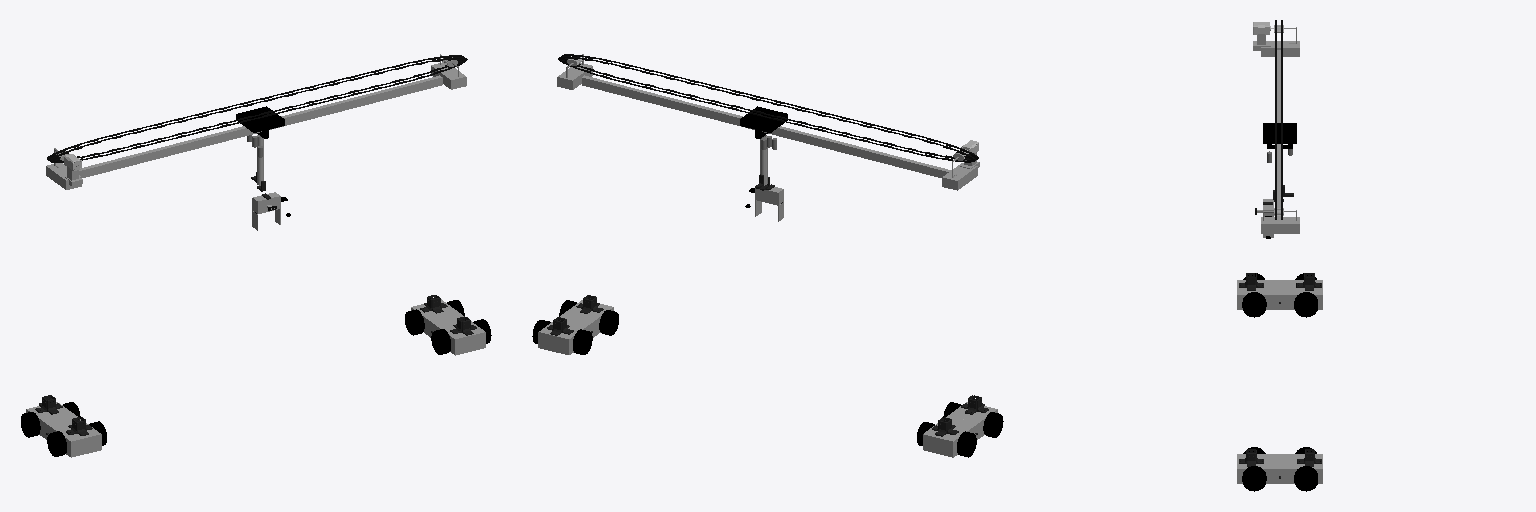
--- Facts derived from the render (not from the file) ---
3 views of the same robot in one strip: view 1: azimuth 30°, elevation 25°; view 2: azimuth 150°, elevation 25°; view 3: azimuth 270°, elevation 25° (orthographic).
Robot: bot — 104 links, 103 joints (1 revolute, 13 continuous, 6 prismatic, 83 fixed); root link Untitled.052; default pose: all joints at 0.
Visible links, largest first — view 1: Untitled.052, Untitled.004, Untitled.009, Untitled.058, Untitled.079, Untitled.026; view 2: Untitled.052, Untitled.009, Untitled.079, Untitled.004, Untitled.058, Untitled.026, Untitled.110; view 3: Untitled.004, Untitled.009, Untitled.111, Untitled.026, Untitled.052.
Link boxes in pixels (box(x1,y1,x2,y2)): Untitled.052: box(79, 75, 442, 177); Untitled.004: box(26, 402, 101, 457); Untitled.009: box(411, 299, 485, 355); Untitled.058: box(49, 57, 467, 162); Untitled.079: box(47, 55, 463, 160); Untitled.026: box(236, 106, 284, 132); Untitled.052: box(582, 75, 951, 177); Untitled.009: box(538, 300, 613, 354); Untitled.079: box(558, 56, 975, 162); Untitled.004: box(923, 402, 997, 457); Untitled.058: box(561, 54, 978, 159); Untitled.026: box(740, 106, 787, 132); Untitled.110: box(942, 163, 977, 190); Untitled.004: box(1237, 280, 1322, 309); Untitled.009: box(1237, 454, 1322, 483); Untitled.111: box(1261, 217, 1299, 233); Untitled.026: box(1263, 123, 1296, 143); Untitled.052: box(1277, 50, 1280, 216).
Bounding box of the posed robot: 2.81 × 0.5 × 1.82 m (x, y, z).
Meshes: 23 distinct files referenced, 38 mesh visuals loaded (13 binary STL); not drawn: 16 (reference not matched to a file when rendering).

The robot description file, URDF, robot "bot":
<?xml version="1.0"?>
<!-- created with Phobos 1.0.1 "Capricious Choutengan" -->
  <robot name="bot">

    <link name="Untitled">
      <inertial>
        <origin xyz="0 0 0" rpy="0 0 0"/>
        <mass value="0.001"/>
        <inertia ixx="0.001" ixy="0" ixz="0" iyy="0.001" iyz="0" izz="0.001"/>
      </inertial>
    </link>

    <link name="Untitled.001">
      <inertial>
        <origin xyz="0 0 0" rpy="0 0 0"/>
        <mass value="0.001"/>
        <inertia ixx="0.001" ixy="0" ixz="0" iyy="0.001" iyz="0" izz="0.001"/>
      </inertial>
    </link>

    <link name="Untitled.002">
      <inertial>
        <origin xyz="0 0 0" rpy="0 0 0"/>
        <mass value="0.001"/>
        <inertia ixx="0.001" ixy="0" ixz="0" iyy="0.001" iyz="0" izz="0.001"/>
      </inertial>
    </link>

    <link name="Untitled.003">
      <inertial>
        <origin xyz="0 0 0" rpy="0 0 0"/>
        <mass value="0.001"/>
        <inertia ixx="0.001" ixy="0" ixz="0" iyy="0.001" iyz="0" izz="0.001"/>
      </inertial>
    </link>

    <link name="Untitled.004">
      <inertial>
        <origin xyz="0 0 0" rpy="0 0 0"/>
        <mass value="8.0"/>
        <inertia ixx="0.00043" ixy="0" ixz="0" iyy="0.00145" iyz="0" izz="0.06667"/>
      </inertial>
      <visual name="base link.000">
        <origin xyz="0 0 0" rpy="0 0 0"/>
        <geometry>
          <box size="0.5 0.2 0.1"/>
        </geometry>
        <material name="Material.005"/>
      </visual>
      <collision name="base link.000">
        <origin xyz="0 0 0" rpy="0 0 0"/>
        <geometry>
          <box size="0.5 0.2 0.1"/>
        </geometry>
      </collision>
    </link>

    <link name="Untitled.005">
      <inertial>
        <origin xyz="0 0 0" rpy="0 0 0"/>
        <mass value="0.25"/>
        <inertia ixx="7e-05" ixy="0" ixz="0" iyy="0.00013" iyz="0" izz="0.00056"/>
      </inertial>
      <visual name="bl Link.000">
        <origin xyz="-0.0022 0 0" rpy="-3.14159 0 0"/>
        <geometry>
          <mesh filename="Cylinder.004.stl" scale="0.77778 0.77778 1.0"/>
        </geometry>
        <material name="Material.004"/>
      </visual>
      <collision name="bl Link.000">
        <origin xyz="-0.0022 0 0" rpy="-3.14159 0 0"/>
        <geometry>
          <cylinder radius="0.07" length="0.05"/>
        </geometry>
      </collision>
    </link>

    <link name="Untitled.006">
      <inertial>
        <origin xyz="0 0 0" rpy="0 0 0"/>
        <mass value="0.25"/>
        <inertia ixx="7e-05" ixy="0" ixz="0" iyy="0.00013" iyz="0" izz="0.00056"/>
      </inertial>
      <visual name="bl Link.002.000">
        <origin xyz="-0.0022 0 0" rpy="-3.14159 0 0"/>
        <geometry>
          <cylinder radius="0.07" length="0.05"/>
        </geometry>
        <material name="Material.001"/>
      </visual>
      <collision name="bl Link.002.000">
        <origin xyz="-0.0022 0 0" rpy="-3.14159 0 0"/>
        <geometry>
          <cylinder radius="0.07" length="0.05"/>
        </geometry>
      </collision>
    </link>

    <link name="Untitled.007">
      <inertial>
        <origin xyz="0 0 0" rpy="0 0 0"/>
        <mass value="0.25"/>
        <inertia ixx="7e-05" ixy="0" ixz="0" iyy="0.00013" iyz="0" izz="0.00056"/>
      </inertial>
      <visual name="bl Link.003.000">
        <origin xyz="-0.0022 0 0" rpy="0 0 0"/>
        <geometry>
          <cylinder radius="0.07" length="0.05"/>
        </geometry>
        <material name="Material.002"/>
      </visual>
      <collision name="bl Link.003.000">
        <origin xyz="-0.0022 0 0" rpy="0 0 0"/>
        <geometry>
          <cylinder radius="0.07" length="0.05"/>
        </geometry>
      </collision>
    </link>

    <link name="Untitled.008">
      <inertial>
        <origin xyz="0 0 0" rpy="0 0 0"/>
        <mass value="0.25"/>
        <inertia ixx="7e-05" ixy="0" ixz="0" iyy="0.00013" iyz="0" izz="0.00056"/>
      </inertial>
      <visual name="bl Link.001.000">
        <origin xyz="-0.0022 0 0" rpy="0 0 0"/>
        <geometry>
          <cylinder radius="0.07" length="0.05"/>
        </geometry>
        <material name="Material.003"/>
      </visual>
      <collision name="bl Link.001.000">
        <origin xyz="-0.0022 0 0" rpy="0 0 0"/>
        <geometry>
          <cylinder radius="0.07" length="0.05"/>
        </geometry>
      </collision>
    </link>

    <link name="Untitled.009">
      <inertial>
        <origin xyz="0 0 0" rpy="0 0 0"/>
        <mass value="8.0"/>
        <inertia ixx="0.00043" ixy="0" ixz="0" iyy="0.00145" iyz="0" izz="0.06667"/>
      </inertial>
      <visual name="base link.001">
        <origin xyz="0 0 0" rpy="0 0 0"/>
        <geometry>
          <box size="0.5 0.2 0.1"/>
        </geometry>
        <material name="Material.005"/>
      </visual>
      <collision name="base link.000">
        <origin xyz="0 0 0" rpy="0 0 0"/>
        <geometry>
          <box size="0.5 0.2 0.1"/>
        </geometry>
      </collision>
    </link>

    <link name="Untitled.010">
      <inertial>
        <origin xyz="0 0 0" rpy="0 0 0"/>
        <mass value="0.001"/>
        <inertia ixx="0.001" ixy="0" ixz="0" iyy="0.001" iyz="0" izz="0.001"/>
      </inertial>
    </link>

    <link name="Untitled.011">
      <inertial>
        <origin xyz="0 0 0" rpy="0 0 0"/>
        <mass value="0.25"/>
        <inertia ixx="7e-05" ixy="0" ixz="0" iyy="0.00013" iyz="0" izz="0.00056"/>
      </inertial>
      <visual name="bl Link.003.001">
        <origin xyz="-0.0022 0 0" rpy="0 0 0"/>
        <geometry>
          <cylinder radius="0.07" length="0.05"/>
        </geometry>
        <material name="Material.002"/>
      </visual>
      <collision name="bl Link.003.000">
        <origin xyz="-0.0022 0 0" rpy="0 0 0"/>
        <geometry>
          <cylinder radius="0.07" length="0.05"/>
        </geometry>
      </collision>
    </link>

    <link name="Untitled.012">
      <inertial>
        <origin xyz="0 0 0" rpy="0 0 0"/>
        <mass value="0.001"/>
        <inertia ixx="0.001" ixy="0" ixz="0" iyy="0.001" iyz="0" izz="0.001"/>
      </inertial>
    </link>

    <link name="Untitled.013">
      <inertial>
        <origin xyz="0 0 0" rpy="0 0 0"/>
        <mass value="0.001"/>
        <inertia ixx="0.001" ixy="0" ixz="0" iyy="0.001" iyz="0" izz="0.001"/>
      </inertial>
      <visual name="Pulley T-Mxl-Xl-Htd-Gt2 N-Tooth 20141225-11880-1Y2Kfq6-0">
        <origin xyz="0 0 -0.05" rpy="0 0 0"/>
        <geometry>
          <mesh filename="Pulley T-Mxl-Xl-Htd-Gt2 N-Tooth 20141225-11880-1Y2Kfq6-0.stl" scale="0.00021 0.00037 0.005"/>
        </geometry>
        <material name="Material.039"/>
      </visual>
    </link>

    <link name="Untitled.014">
      <inertial>
        <origin xyz="0 0 0" rpy="0 0 0"/>
        <mass value="0.001"/>
        <inertia ixx="0.001" ixy="0" ixz="0" iyy="0.001" iyz="0" izz="0.001"/>
      </inertial>
    </link>

    <link name="Untitled.015">
      <inertial>
        <origin xyz="0 0 0" rpy="0 0 0"/>
        <mass value="0.25"/>
        <inertia ixx="7e-05" ixy="0" ixz="0" iyy="0.00013" iyz="0" izz="0.00056"/>
      </inertial>
      <visual name="bl Link.001">
        <origin xyz="-0.0022 0 0" rpy="-3.14159 0 0"/>
        <geometry>
          <cylinder radius="0.07" length="0.05"/>
        </geometry>
        <material name="Material.004"/>
      </visual>
      <collision name="bl Link.000">
        <origin xyz="-0.0022 0 0" rpy="-3.14159 0 0"/>
        <geometry>
          <cylinder radius="0.07" length="0.05"/>
        </geometry>
      </collision>
    </link>

    <link name="Untitled.016">
      <inertial>
        <origin xyz="0 0 0" rpy="0 0 0"/>
        <mass value="0.001"/>
        <inertia ixx="0.001" ixy="0" ixz="0" iyy="0.001" iyz="0" izz="0.001"/>
      </inertial>
    </link>

    <link name="Untitled.017">
      <inertial>
        <origin xyz="0 0 0" rpy="0 0 0"/>
        <mass value="0.25"/>
        <inertia ixx="7e-05" ixy="0" ixz="0" iyy="0.00013" iyz="0" izz="0.00056"/>
      </inertial>
      <visual name="bl Link.001.001">
        <origin xyz="-0.0022 0 0" rpy="0 0 0"/>
        <geometry>
          <cylinder radius="0.07" length="0.05"/>
        </geometry>
        <material name="Material.003"/>
      </visual>
      <collision name="bl Link.001.000">
        <origin xyz="-0.0022 0 0" rpy="0 0 0"/>
        <geometry>
          <cylinder radius="0.07" length="0.05"/>
        </geometry>
      </collision>
    </link>

    <link name="Untitled.018">
      <inertial>
        <origin xyz="0 0 0" rpy="0 0 0"/>
        <mass value="0.02"/>
        <inertia ixx="2e-05" ixy="0" ixz="0" iyy="2e-05" iyz="0" izz="2e-05"/>
      </inertial>
      <visual name="base link.002">
        <origin xyz="0 0 0" rpy="0 0 0"/>
        <geometry>
          <mesh filename="base link.stl" scale="0.74892 0.75 0.33333"/>
        </geometry>
        <material name="Material.035"/>
      </visual>
      <collision name="base link.002.000">
        <origin xyz="0 0 0" rpy="0 0 0"/>
        <geometry>
          <mesh filename="base link.001.stl" scale="1.5043 1.5 1.0"/>
        </geometry>
      </collision>
    </link>

    <link name="Untitled.019">
      <inertial>
        <origin xyz="0 0 0" rpy="0 0 0"/>
        <mass value="0.01"/>
        <inertia ixx="2e-05" ixy="0" ixz="0" iyy="2e-05" iyz="0" izz="2e-05"/>
      </inertial>
      <visual name="inner Link.003">
        <origin xyz="0 0 0" rpy="0 0 0"/>
        <geometry>
          <mesh filename="inner Link.006.stl" scale="0.59176 0.57692 0.33333"/>
        </geometry>
        <material name="Material.036"/>
      </visual>
      <collision name="inner Link.003.000">
        <origin xyz="0 0 0" rpy="0 0 0"/>
        <geometry>
          <mesh filename="inner Link.007.stl" scale="1.0 1.0 1.0"/>
        </geometry>
      </collision>
    </link>

    <link name="Untitled.020">
      <inertial>
        <origin xyz="0 0 0" rpy="0 0 0"/>
        <mass value="0.001"/>
        <inertia ixx="2e-05" ixy="0" ixz="0" iyy="2e-05" iyz="0" izz="2e-05"/>
      </inertial>
      <visual name="Half Sphere 2">
        <origin xyz="0 0 0" rpy="-1.5708 0 0"/>
        <geometry>
          <mesh filename="Half Sphere 2.002.stl" scale="0.00489 0.00488 0.00488"/>
        </geometry>
        <material name="Material.037"/>
      </visual>
      <collision name="Half Sphere 2.000">
        <origin xyz="-0.001 0 -0.00176" rpy="-1.5708 0 0"/>
        <geometry>
          <mesh filename="Half Sphere 2.003.stl" scale="1.0 1.0 1.0"/>
        </geometry>
      </collision>
    </link>

    <link name="Untitled.021">
      <inertial>
        <origin xyz="0 0 0.01" rpy="0 0 0"/>
        <mass value="0.01"/>
        <inertia ixx="2e-05" ixy="0" ixz="0" iyy="2e-05" iyz="0" izz="2e-05"/>
      </inertial>
      <visual name="Cube.003">
        <origin xyz="0 0 0.01" rpy="0 0 0"/>
        <geometry>
          <box size="0.15 0.03 0.01"/>
        </geometry>
        <material name="Material.009"/>
      </visual>
      <collision name="Cube.003">
        <origin xyz="0 0 0.01" rpy="0 0 0"/>
        <geometry>
          <box size="0.15 0.03 0.01"/>
        </geometry>
      </collision>
    </link>

    <link name="Untitled.022">
      <inertial>
        <origin xyz="0 0 0" rpy="0 0 0"/>
        <mass value="0.05"/>
        <inertia ixx="2e-05" ixy="0" ixz="0" iyy="2e-05" iyz="0" izz="2e-05"/>
      </inertial>
      <visual name="Cube.002">
        <origin xyz="0 0 0" rpy="0 0 0"/>
        <geometry>
          <box size="0.03 0.03 0.06"/>
        </geometry>
        <material name="Material.010"/>
      </visual>
      <collision name="Cube.002">
        <origin xyz="0 0 0" rpy="0 0 0"/>
        <geometry>
          <box size="0.03 0.03 0.06"/>
        </geometry>
      </collision>
    </link>

    <link name="Untitled.023">
      <inertial>
        <origin xyz="0 0 0" rpy="0 0 0"/>
        <mass value="0.05"/>
        <inertia ixx="2e-05" ixy="0" ixz="0" iyy="2e-05" iyz="0" izz="2e-05"/>
      </inertial>
      <visual name="Cube.001">
        <origin xyz="0 0 0" rpy="0 0 0"/>
        <geometry>
          <box size="0.03 0.03 0.06"/>
        </geometry>
        <material name="Material.010"/>
      </visual>
      <collision name="Cube.001">
        <origin xyz="0 0 0" rpy="0 0 0"/>
        <geometry>
          <box size="0.03 0.03 0.06"/>
        </geometry>
      </collision>
    </link>

    <link name="Untitled.024">
      <inertial>
        <origin xyz="0 0 0" rpy="0 0 0"/>
        <mass value="0.001"/>
        <inertia ixx="0.001" ixy="0" ixz="0" iyy="0.001" iyz="0" izz="0.001"/>
      </inertial>
    </link>

    <link name="Untitled.025">
      <inertial>
        <origin xyz="0 0 0" rpy="0 0 0"/>
        <mass value="0.001"/>
        <inertia ixx="0.001" ixy="0" ixz="0" iyy="0.001" iyz="0" izz="0.001"/>
      </inertial>
    </link>

    <link name="Untitled.026">
      <inertial>
        <origin xyz="0 0 0" rpy="0 0 0"/>
        <mass value="0.5"/>
        <inertia ixx="2e-05" ixy="0" ixz="0" iyy="2e-05" iyz="0" izz="2e-05"/>
      </inertial>
      <visual name="Cube">
        <origin xyz="0 0 0" rpy="-1.5708 0 0"/>
        <geometry>
          <box size="0.2 0.2 0.04"/>
        </geometry>
        <material name="Material.008"/>
      </visual>
      <collision name="Cube">
        <origin xyz="0 0 0" rpy="-1.5708 0 0"/>
        <geometry>
          <box size="0.2 0.2 0.04"/>
        </geometry>
      </collision>
    </link>

    <link name="Untitled.027">
      <inertial>
        <origin xyz="0 0 0" rpy="0 0 0"/>
        <mass value="0.5"/>
        <inertia ixx="0.00286" ixy="0" ixz="0" iyy="0.00286" iyz="0" izz="0.0001"/>
      </inertial>
      <visual name="base link">
        <origin xyz="0 0 0" rpy="0 0 0"/>
        <geometry>
          <mesh filename="base link.006.stl" scale="1.0 1.0 1.0"/>
        </geometry>
        <material name="Material.011"/>
      </visual>
      <collision name="base link.000.001.002">
        <origin xyz="0 0.00061 0" rpy="0 0 0"/>
        <geometry>
          <mesh filename="base link.009.stl" scale="1.0 1.0 1.0"/>
        </geometry>
      </collision>
    </link>

    <link name="Untitled.028">
      <inertial>
        <origin xyz="0 0 0.02952" rpy="0 0 0"/>
        <mass value="0.5"/>
        <inertia ixx="0.00377" ixy="0" ixz="0" iyy="0.00377" iyz="0" izz="4e-05"/>
      </inertial>
      <visual name="inner Link">
        <origin xyz="0 0 0.02952" rpy="0 0 0"/>
        <geometry>
          <mesh filename="inner Link.stl" scale="1.0 1.0 1.0"/>
        </geometry>
        <material name="Material.012"/>
      </visual>
      <collision name="inner Link.000">
        <origin xyz="0 0 0.02952" rpy="0 0 0"/>
        <geometry>
          <mesh filename="inner Link.003.stl" scale="1.0 1.0 1.0"/>
        </geometry>
      </collision>
    </link>

    <link name="Untitled.029">
      <inertial>
        <origin xyz="0 0 0" rpy="0 0 0"/>
        <mass value="0.1"/>
        <inertia ixx="2e-05" ixy="0" ixz="0" iyy="2e-05" iyz="0" izz="2e-05"/>
      </inertial>
      <visual name="Cube.004">
        <origin xyz="0 0 0" rpy="0 0 0"/>
        <geometry>
          <box size="0.06 0.026 0.01"/>
        </geometry>
        <material name="Material.013"/>
      </visual>
      <collision name="Cube.004">
        <origin xyz="0 0 0" rpy="0 0 0"/>
        <geometry>
          <box size="0.06 0.026 0.01"/>
        </geometry>
      </collision>
    </link>

    <link name="Untitled.030">
      <inertial>
        <origin xyz="0 0 0" rpy="0 0 0"/>
        <mass value="0.5"/>
        <inertia ixx="0.00286" ixy="0" ixz="0" iyy="0.00286" iyz="0" izz="0.0001"/>
      </inertial>
      <visual name="base link.003">
        <origin xyz="0 0 0" rpy="0 0 0"/>
        <geometry>
          <mesh filename="base link.007.stl" scale="1.0 1.0 1.0"/>
        </geometry>
        <material name="Material.014"/>
      </visual>
      <collision name="base link.003.000">
        <origin xyz="0 0 0" rpy="0 0 0"/>
        <geometry>
          <mesh filename="base link.010.stl" scale="1.0 1.0 1.0"/>
        </geometry>
      </collision>
    </link>

    <link name="Untitled.031">
      <inertial>
        <origin xyz="0 0 0" rpy="0 0 0"/>
        <mass value="0.5"/>
        <inertia ixx="0.00377" ixy="0" ixz="0" iyy="0.00377" iyz="0" izz="4e-05"/>
      </inertial>
      <visual name="inner Link.001">
        <origin xyz="0 0 0" rpy="0 0 0"/>
        <geometry>
          <mesh filename="inner Link.001.stl" scale="1.0 1.0 1.0"/>
        </geometry>
        <material name="Material.015"/>
      </visual>
      <collision name="inner Link.001.000">
        <origin xyz="0 0 0" rpy="0 0 0"/>
        <geometry>
          <mesh filename="inner Link.004.stl" scale="1.0 1.0 1.0"/>
        </geometry>
      </collision>
    </link>

    <link name="Untitled.032">
      <inertial>
        <origin xyz="0 0 0" rpy="0 0 0"/>
        <mass value="0.1"/>
        <inertia ixx="2e-05" ixy="0" ixz="0" iyy="2e-05" iyz="0" izz="2e-05"/>
      </inertial>
      <visual name="Cube.005">
        <origin xyz="0 0 0" rpy="0 0 0"/>
        <geometry>
          <box size="0.06 0.026 0.01"/>
        </geometry>
        <material name="Material.016"/>
      </visual>
      <collision name="Cube.005">
        <origin xyz="0 0 0" rpy="0 0 0"/>
        <geometry>
          <box size="0.06 0.026 0.01"/>
        </geometry>
      </collision>
    </link>

    <link name="Untitled.033">
      <inertial>
        <origin xyz="0 0 0" rpy="0 0 0"/>
        <mass value="0.5"/>
        <inertia ixx="0.00286" ixy="0" ixz="0" iyy="0.00286" iyz="0" izz="0.0001"/>
      </inertial>
      <visual name="base link.004">
        <origin xyz="0 0 0" rpy="0 0 0"/>
        <geometry>
          <mesh filename="base link.008.stl" scale="1.0 1.0 1.0"/>
        </geometry>
        <material name="Material.017"/>
      </visual>
      <collision name="base link.004.000">
        <origin xyz="0 0 0" rpy="0 0 0"/>
        <geometry>
          <mesh filename="base link.011.stl" scale="1.0 1.0 1.0"/>
        </geometry>
      </collision>
    </link>

    <link name="Untitled.034">
      <inertial>
        <origin xyz="0 0 0" rpy="0 0 0"/>
        <mass value="0.5"/>
        <inertia ixx="0.00377" ixy="0" ixz="0" iyy="0.00377" iyz="0" izz="4e-05"/>
      </inertial>
      <visual name="inner Link.002">
        <origin xyz="0 0 0" rpy="0 0 0"/>
        <geometry>
          <mesh filename="inner Link.002.stl" scale="1.0 1.0 1.0"/>
        </geometry>
        <material name="Material.018"/>
      </visual>
      <collision name="inner Link.002.000">
        <origin xyz="0 0 0" rpy="0 0 0"/>
        <geometry>
          <mesh filename="inner Link.005.stl" scale="1.0 1.0 1.0"/>
        </geometry>
      </collision>
    </link>

    <link name="Untitled.035">
      <inertial>
        <origin xyz="0 0 0" rpy="0 0 0"/>
        <mass value="0.1"/>
        <inertia ixx="2e-05" ixy="0" ixz="0" iyy="2e-05" iyz="0" izz="2e-05"/>
      </inertial>
      <visual name="Cube.006">
        <origin xyz="0 0 0" rpy="0 0 0"/>
        <geometry>
          <box size="0.06 0.026 0.01"/>
        </geometry>
        <material name="Material.019"/>
      </visual>
      <collision name="Cube.006">
        <origin xyz="0 0 0" rpy="0 0 0"/>
        <geometry>
          <box size="0.06 0.026 0.01"/>
        </geometry>
      </collision>
    </link>

    <link name="Untitled.036">
      <inertial>
        <origin xyz="0 0 0" rpy="0 0 0"/>
        <mass value="0.3"/>
        <inertia ixx="2e-05" ixy="0" ixz="0" iyy="2e-05" iyz="0" izz="2e-05"/>
      </inertial>
      <visual name="Cube.007">
        <origin xyz="0 0 0" rpy="0 0 0"/>
        <geometry>
          <box size="0.06 0.15 0.08"/>
        </geometry>
        <material name="Material.020"/>
      </visual>
      <collision name="Cube.007">
        <origin xyz="0 0 0" rpy="0 0 0"/>
        <geometry>
          <box size="0.04 0.15 0.08"/>
        </geometry>
      </collision>
    </link>

    <link name="Untitled.037">
      <inertial>
        <origin xyz="0 0 0.01" rpy="0 0 0"/>
        <mass value="0.05"/>
        <inertia ixx="2e-05" ixy="0" ixz="0" iyy="2e-05" iyz="0" izz="2e-05"/>
      </inertial>
      <visual name="Cube.008">
        <origin xyz="0 0 0.01" rpy="-1.5708 0 0"/>
        <geometry>
          <box size="0.06 0.005 0.1"/>
        </geometry>
        <material name="Material.007"/>
      </visual>
      <collision name="Cube.008">
        <origin xyz="0 0 0.01" rpy="-1.5708 0 0"/>
        <geometry>
          <box size="0.04 0.005 0.1"/>
        </geometry>
      </collision>
    </link>

    <link name="Untitled.038">
      <inertial>
        <origin xyz="0 0 0.01" rpy="0 0 0"/>
        <mass value="0.05"/>
        <inertia ixx="2e-05" ixy="0" ixz="0" iyy="2e-05" iyz="0" izz="2e-05"/>
      </inertial>
      <visual name="Cube.009">
        <origin xyz="0 0 0.01" rpy="-1.5708 0 0"/>
        <geometry>
          <box size="0.06 0.005 0.1"/>
        </geometry>
        <material name="Material.007"/>
      </visual>
      <collision name="Cube.009">
        <origin xyz="0 0 0.01" rpy="-1.5708 0 0"/>
        <geometry>
          <box size="0.04 0.005 0.1"/>
        </geometry>
      </collision>
    </link>

    <link name="Untitled.039">
      <inertial>
        <origin xyz="0 0 0" rpy="0 0 0"/>
        <mass value="0.001"/>
        <inertia ixx="0.001" ixy="0" ixz="0" iyy="0.001" iyz="0" izz="0.001"/>
      </inertial>
      <visual name="L bracket.007">
        <origin xyz="0 0 -0.02" rpy="0 0 0"/>
        <geometry>
          <mesh filename="L bracket.stl" scale="0.00116 0.0016 0.00167"/>
        </geometry>
        <material name="Material.051"/>
      </visual>
    </link>

    <link name="Untitled.040">
      <inertial>
        <origin xyz="0 0 0" rpy="0 0 0"/>
        <mass value="0.001"/>
        <inertia ixx="0.001" ixy="0" ixz="0" iyy="0.001" iyz="0" izz="0.001"/>
      </inertial>
      <visual name="L bracket.004">
        <origin xyz="0 0 0" rpy="0 0 0"/>
        <geometry>
          <mesh filename="L bracket.stl" scale="0.00116 0.0016 0.00167"/>
        </geometry>
        <material name="Material.051"/>
      </visual>
    </link>

    <link name="Untitled.041">
      <inertial>
        <origin xyz="0 0 0" rpy="0 0 0"/>
        <mass value="0.005"/>
        <inertia ixx="2e-05" ixy="0" ixz="0" iyy="2e-05" iyz="0" izz="2e-05"/>
      </inertial>
      <visual name="Cube.012.000">
        <origin xyz="0 0 0" rpy="0 0 0"/>
        <geometry>
          <box size="0.06 0.026 0.01"/>
        </geometry>
        <material name="Material.025"/>
      </visual>
      <collision name="Cube.012.000">
        <origin xyz="0 0 0" rpy="0 0 0"/>
        <geometry>
          <box size="0.06 0.026 0.01"/>
        </geometry>
      </collision>
    </link>

    <link name="Untitled.042">
      <inertial>
        <origin xyz="0 0 0.01" rpy="0 0 0"/>
        <mass value="0.005"/>
        <inertia ixx="2e-05" ixy="0" ixz="0" iyy="2e-05" iyz="0" izz="2e-05"/>
      </inertial>
      <visual name="Cube.013">
        <origin xyz="0 0 0.01" rpy="-1.5708 0 -1.5708"/>
        <geometry>
          <box size="0.02 0.05 0.01"/>
        </geometry>
        <material name="Material.026"/>
      </visual>
      <collision name="Cube.013">
        <origin xyz="0 0 0.01" rpy="-1.5708 0 -1.5708"/>
        <geometry>
          <box size="0.02 0.05 0.01"/>
        </geometry>
      </collision>
    </link>

    <link name="Untitled.043">
      <inertial>
        <origin xyz="0 0 0" rpy="0 0 0"/>
        <mass value="0.001"/>
        <inertia ixx="0.001" ixy="0" ixz="0" iyy="0.001" iyz="0" izz="0.001"/>
      </inertial>
      <visual name="Cylinder.001">
        <origin xyz="0 0 0" rpy="0 0 0"/>
        <geometry>
          <cylinder radius="0.005" length="0.01"/>
        </geometry>
        <material name="Material.027"/>
      </visual>
    </link>

    <link name="Untitled.044">
      <inertial>
        <origin xyz="0 0 0" rpy="0 0 0"/>
        <mass value="0.001"/>
        <inertia ixx="0.001" ixy="0" ixz="0" iyy="0.001" iyz="0" izz="0.001"/>
      </inertial>
      <visual name="Cylinder">
        <origin xyz="0 0 0" rpy="0 0 0"/>
        <geometry>
          <cylinder radius="0.005" length="0.01"/>
        </geometry>
        <material name="Material.027"/>
      </visual>
    </link>

    <link name="Untitled.045">
      <inertial>
        <origin xyz="0 0 0" rpy="0 0 0"/>
        <mass value="0.001"/>
        <inertia ixx="0.001" ixy="0" ixz="0" iyy="0.001" iyz="0" izz="0.001"/>
      </inertial>
      <visual name="L bracket.008">
        <origin xyz="0 0 0" rpy="0 0 0"/>
        <geometry>
          <mesh filename="L bracket.stl" scale="0.00116 0.0016 0.00167"/>
        </geometry>
        <material name="Material.051"/>
      </visual>
    </link>

    <link name="Untitled.046">
      <inertial>
        <origin xyz="0 0 0" rpy="0 0 0"/>
        <mass value="0.001"/>
        <inertia ixx="0.001" ixy="0" ixz="0" iyy="0.001" iyz="0" izz="0.001"/>
      </inertial>
      <visual name="L bracket.011">
        <origin xyz="0 0 0" rpy="0 0 0"/>
        <geometry>
          <mesh filename="L bracket.stl" scale="0.00116 0.0016 0.00167"/>
        </geometry>
        <material name="Material.051"/>
      </visual>
    </link>

    <link name="Untitled.047">
      <inertial>
        <origin xyz="0 0 0" rpy="0 0 0"/>
        <mass value="0.01"/>
        <inertia ixx="2e-05" ixy="0" ixz="0" iyy="2e-05" iyz="0" izz="2e-05"/>
      </inertial>
      <visual name="Cube.012">
        <origin xyz="0 0 0" rpy="0 0 0"/>
        <geometry>
          <box size="0.04 0.05 0.01"/>
        </geometry>
        <material name="Material.032"/>
      </visual>
      <collision name="Cube.012">
        <origin xyz="0 0 0" rpy="0 0 0"/>
        <geometry>
          <box size="0.04 0.05 0.01"/>
        </geometry>
      </collision>
    </link>

    <link name="Untitled.048">
      <inertial>
        <origin xyz="0 0 0" rpy="0 0 0"/>
        <mass value="0.001"/>
        <inertia ixx="0.001" ixy="0" ixz="0" iyy="0.001" iyz="0" izz="0.001"/>
      </inertial>
      <visual name="Cube.014">
        <origin xyz="0 0 0" rpy="0 0 0"/>
        <geometry>
          <box size="0.1 0.07 0.03"/>
        </geometry>
        <material name="Material.041"/>
      </visual>
    </link>

    <link name="Untitled.049">
      <inertial>
        <origin xyz="0 0 0" rpy="0 0 0"/>
        <mass value="0.001"/>
        <inertia ixx="0.001" ixy="0" ixz="0" iyy="0.001" iyz="0" izz="0.001"/>
      </inertial>
      <visual name="Cube.015">
        <origin xyz="0 0 0" rpy="0 0 0"/>
        <geometry>
          <box size="0.05 0.05 0.08"/>
        </geometry>
        <material name="Material.042"/>
      </visual>
    </link>

    <link name="Untitled.050">
      <inertial>
        <origin xyz="0 0 0" rpy="0 0 0"/>
        <mass value="0.001"/>
        <inertia ixx="0.001" ixy="0" ixz="0" iyy="0.001" iyz="0" izz="0.001"/>
      </inertial>
      <visual name="L bracket.009">
        <origin xyz="0.01 0 0" rpy="0 0 0"/>
        <geometry>
          <mesh filename="L bracket.stl" scale="0.00116 0.0016 0.00167"/>
        </geometry>
        <material name="Material.051"/>
      </visual>
    </link>

    <link name="Untitled.051">
      <inertial>
        <origin xyz="0 0 0" rpy="0 0 0"/>
        <mass value="0.001"/>
        <inertia ixx="0.001" ixy="0" ixz="0" iyy="0.001" iyz="0" izz="0.001"/>
      </inertial>
      <visual name="L bracket.010">
        <origin xyz="0 0 0" rpy="0 0 0"/>
        <geometry>
          <mesh filename="L bracket.stl" scale="0.00116 0.0016 0.00167"/>
        </geometry>
        <material name="Material.051"/>
      </visual>
    </link>

    <link name="Untitled.052">
      <inertial>
        <origin xyz="0 0 0" rpy="0 0 0"/>
        <mass value="2.0"/>
        <inertia ixx="1.00174" ixy="0" ixz="0" iyy="0.00057" iyz="0" izz="0.92057"/>
      </inertial>
      <visual name="horizantal rod">
        <origin xyz="0 0 0" rpy="0 -0.01396 0"/>
        <geometry>
          <mesh filename="horizantal rod.stl" scale="1.02128 1.00001 1.0"/>
        </geometry>
        <material name="Material.030"/>
      </visual>
      <collision name="horizantal rod.000">
        <origin xyz="0 0 0" rpy="0 -0.01396 0"/>
        <geometry>
          <mesh filename="horizantal rod.001.stl" scale="1.0 1.0 1.0"/>
        </geometry>
      </collision>
    </link>

    <link name="Untitled.053">
      <inertial>
        <origin xyz="0 0 0" rpy="0 0 0"/>
        <mass value="0.001"/>
        <inertia ixx="0.001" ixy="0" ixz="0" iyy="0.001" iyz="0" izz="0.001"/>
      </inertial>
      <visual name="NEMA 17">
        <origin xyz="0 0 0" rpy="0 0 0"/>
        <geometry>
          <mesh filename="NEMA 17.stl" scale="0.00142 0.00142 0.00221"/>
        </geometry>
        <material name="Material.038"/>
      </visual>
    </link>

    <link name="Untitled.054">
      <inertial>
        <origin xyz="0 0 0" rpy="0 0 0"/>
        <mass value="0.25"/>
        <inertia ixx="7e-05" ixy="0" ixz="0" iyy="0.00013" iyz="0" izz="0.00056"/>
      </inertial>
      <visual name="bl Link.002.001">
        <origin xyz="-0.0022 0 0" rpy="-3.14159 0 0"/>
        <geometry>
          <cylinder radius="0.07" length="0.05"/>
        </geometry>
        <material name="Material.001"/>
      </visual>
      <collision name="bl Link.002.000">
        <origin xyz="-0.0022 0 0" rpy="-3.14159 0 0"/>
        <geometry>
          <cylinder radius="0.07" length="0.05"/>
        </geometry>
      </collision>
    </link>

    <link name="Untitled.055">
      <inertial>
        <origin xyz="0 0 0" rpy="0 0 0"/>
        <mass value="0.001"/>
        <inertia ixx="0.001" ixy="0" ixz="0" iyy="0.001" iyz="0" izz="0.001"/>
      </inertial>
      <visual name="Cylinder.004">
        <origin xyz="0 0 0" rpy="0 0 0"/>
        <geometry>
          <cylinder radius="0.005" length="0.08"/>
        </geometry>
        <material name="Material.040"/>
      </visual>
    </link>

    <link name="Untitled.056">
      <inertial>
        <origin xyz="0 0 0" rpy="0 0 0"/>
        <mass value="0.001"/>
        <inertia ixx="0.001" ixy="0" ixz="0" iyy="0.001" iyz="0" izz="0.001"/>
      </inertial>
      <visual name="Cylinder.005">
        <origin xyz="0 0 0" rpy="0 0 0"/>
        <geometry>
          <cylinder radius="0.005" length="0.11"/>
        </geometry>
        <material name="Material.040"/>
      </visual>
    </link>

    <link name="Untitled.057">
      <inertial>
        <origin xyz="0 0 0" rpy="0 0 0"/>
        <mass value="0.001"/>
        <inertia ixx="0.001" ixy="0" ixz="0" iyy="0.001" iyz="0" izz="0.001"/>
      </inertial>
      <visual name="Cylinder.006">
        <origin xyz="0 0 0" rpy="0 0 0"/>
        <geometry>
          <cylinder radius="0.005" length="0.05"/>
        </geometry>
        <material name="Material.040"/>
      </visual>
    </link>

    <link name="Untitled.058">
      <inertial>
        <origin xyz="0 0 0" rpy="0 0 0"/>
        <mass value="0.001"/>
        <inertia ixx="0.001" ixy="0" ixz="0" iyy="0.001" iyz="0" izz="0.001"/>
      </inertial>
      <visual name="Original.001">
        <origin xyz="0 0 0.02231" rpy="0 0 0"/>
        <geometry>
          <mesh filename="Original.stl" scale="0.1462 0.01681 0.00592"/>
        </geometry>
        <material name="Material.006"/>
      </visual>
    </link>

    <link name="Untitled.059">
      <inertial>
        <origin xyz="0 0 0" rpy="0 0 0"/>
        <mass value="0.001"/>
        <inertia ixx="0.001" ixy="0" ixz="0" iyy="0.001" iyz="0" izz="0.001"/>
      </inertial>
      <visual name="Cylinder.012">
        <origin xyz="0 0 0" rpy="0 0 0"/>
        <geometry>
          <cylinder radius="0.005" length="0.08"/>
        </geometry>
        <material name="Material.040"/>
      </visual>
    </link>

    <link name="Untitled.060">
      <inertial>
        <origin xyz="0 0 0" rpy="0 0 0"/>
        <mass value="0.001"/>
        <inertia ixx="0.001" ixy="0" ixz="0" iyy="0.001" iyz="0" izz="0.001"/>
      </inertial>
      <visual name="Cylinder.010">
        <origin xyz="0 0 0" rpy="0 0 0"/>
        <geometry>
          <cylinder radius="0.005" length="0.11"/>
        </geometry>
        <material name="Material.040"/>
      </visual>
    </link>

    <link name="Untitled.061">
      <inertial>
        <origin xyz="0 0 0" rpy="0 0 0"/>
        <mass value="0.001"/>
        <inertia ixx="0.001" ixy="0" ixz="0" iyy="0.001" iyz="0" izz="0.001"/>
      </inertial>
      <visual name="Cylinder.009">
        <origin xyz="0 0 0" rpy="0 0 0"/>
        <geometry>
          <cylinder radius="0.005" length="0.08"/>
        </geometry>
        <material name="Material.040"/>
      </visual>
      <visual name="Pulley T-Mxl-Xl-Htd-Gt2 N-Tooth 20141225-11880-1Y2Kfq6-0.001">
        <origin xyz="0 0 0.0194" rpy="0 -3.14159 0"/>
        <geometry>
          <mesh filename="Pulley T-Mxl-Xl-Htd-Gt2 N-Tooth 20141225-11880-1Y2Kfq6-0.stl" scale="0.00021 0.00037 0.005"/>
        </geometry>
        <material name="Material.039"/>
      </visual>
    </link>

    <link name="Untitled.062">
      <inertial>
        <origin xyz="0 0 0" rpy="0 0 0"/>
        <mass value="0.001"/>
        <inertia ixx="0.001" ixy="0" ixz="0" iyy="0.001" iyz="0" izz="0.001"/>
      </inertial>
    </link>

    <link name="Untitled.063">
      <inertial>
        <origin xyz="0 0 0" rpy="0 0 0"/>
        <mass value="0.001"/>
        <inertia ixx="0.001" ixy="0" ixz="0" iyy="0.001" iyz="0" izz="0.001"/>
      </inertial>
      <visual name="Cylinder.008">
        <origin xyz="0 0 0" rpy="0 0 0"/>
        <geometry>
          <cylinder radius="0.005" length="0.08"/>
        </geometry>
        <material name="Material.040"/>
      </visual>
    </link>

    <link name="Untitled.064">
      <inertial>
        <origin xyz="0 0 0" rpy="0 0 0"/>
        <mass value="0.001"/>
        <inertia ixx="0.001" ixy="0" ixz="0" iyy="0.001" iyz="0" izz="0.001"/>
      </inertial>
      <visual name="Cylinder.007">
        <origin xyz="0 0 0" rpy="0 0 0"/>
        <geometry>
          <cylinder radius="0.005" length="0.11"/>
        </geometry>
        <material name="Material.040"/>
      </visual>
    </link>

    <link name="Untitled.065">
      <inertial>
        <origin xyz="0 0 0" rpy="0 0 0"/>
        <mass value="0.001"/>
        <inertia ixx="0.001" ixy="0" ixz="0" iyy="0.001" iyz="0" izz="0.001"/>
      </inertial>
      <visual name="Cylinder.011">
        <origin xyz="0 0 0" rpy="0 0 0"/>
        <geometry>
          <cylinder radius="0.005" length="0.08"/>
        </geometry>
        <material name="Material.040"/>
      </visual>
    </link>

    <link name="Untitled.073">
      <inertial>
        <origin xyz="0 0 0" rpy="0 0 0"/>
        <mass value="0.001"/>
        <inertia ixx="0.001" ixy="0" ixz="0" iyy="0.001" iyz="0" izz="0.001"/>
      </inertial>
      <visual name="L bracket.005">
        <origin xyz="0 0 0" rpy="0 0 0"/>
        <geometry>
          <mesh filename="L bracket.stl" scale="0.00116 0.0016 0.00167"/>
        </geometry>
        <material name="Material.051"/>
      </visual>
    </link>

    <link name="Untitled.074">
      <inertial>
        <origin xyz="0 0 0" rpy="0 0 0"/>
        <mass value="0.001"/>
        <inertia ixx="0.001" ixy="0" ixz="0" iyy="0.001" iyz="0" izz="0.001"/>
      </inertial>
      <visual name="L bracket.006">
        <origin xyz="0 0 0" rpy="0 0 0"/>
        <geometry>
          <mesh filename="L bracket.stl" scale="0.00116 0.0016 0.00167"/>
        </geometry>
        <material name="Material.051"/>
      </visual>
    </link>

    <link name="Untitled.075">
      <inertial>
        <origin xyz="0 0 0" rpy="0 0 0"/>
        <mass value="0.001"/>
        <inertia ixx="0.001" ixy="0" ixz="0" iyy="0.001" iyz="0" izz="0.001"/>
      </inertial>
      <visual name="L bracket.001">
        <origin xyz="0 0 0" rpy="0 0 0"/>
        <geometry>
          <mesh filename="L bracket.stl" scale="0.00116 0.0016 0.00167"/>
        </geometry>
        <material name="Material.051"/>
      </visual>
    </link>

    <link name="Untitled.076">
      <inertial>
        <origin xyz="0 0 0" rpy="0 0 0"/>
        <mass value="0.001"/>
        <inertia ixx="0.001" ixy="0" ixz="0" iyy="0.001" iyz="0" izz="0.001"/>
      </inertial>
      <visual name="L bracket.002">
        <origin xyz="0 0 0" rpy="0 0 0"/>
        <geometry>
          <mesh filename="L bracket.stl" scale="0.00116 0.0016 0.00167"/>
        </geometry>
        <material name="Material.051"/>
      </visual>
    </link>

    <link name="Untitled.077">
      <inertial>
        <origin xyz="0 0 0" rpy="0 0 0"/>
        <mass value="0.001"/>
        <inertia ixx="0.001" ixy="0" ixz="0" iyy="0.001" iyz="0" izz="0.001"/>
      </inertial>
      <visual name="L bracket.003">
        <origin xyz="0 0 -0.01" rpy="0 0 0"/>
        <geometry>
          <mesh filename="L bracket.stl" scale="0.00116 0.0016 0.00167"/>
        </geometry>
        <material name="Material.051"/>
      </visual>
    </link>

    <link name="Untitled.078">
      <inertial>
        <origin xyz="0 0 0" rpy="0 0 0"/>
        <mass value="0.001"/>
        <inertia ixx="0.001" ixy="0" ixz="0" iyy="0.001" iyz="0" izz="0.001"/>
      </inertial>
      <visual name="L bracket">
        <origin xyz="0.005 0 0" rpy="0 0 0"/>
        <geometry>
          <mesh filename="L bracket.stl" scale="0.00116 0.0016 0.00167"/>
        </geometry>
        <material name="Material.051"/>
      </visual>
    </link>

    <link name="Untitled.079">
      <inertial>
        <origin xyz="0 0 0" rpy="0 0 0"/>
        <mass value="0.001"/>
        <inertia ixx="0.001" ixy="0" ixz="0" iyy="0.001" iyz="0" izz="0.001"/>
      </inertial>
      <visual name="Original">
        <origin xyz="0 0 0" rpy="0 0 0"/>
        <geometry>
          <mesh filename="Original.stl" scale="0.1462 0.01681 0.00592"/>
        </geometry>
        <material name="Material.006"/>
      </visual>
    </link>

    <link name="Untitled.080">
      <inertial>
        <origin xyz="0 0 0" rpy="0 0 0"/>
        <mass value="0.001"/>
        <inertia ixx="0.001" ixy="0" ixz="0" iyy="0.001" iyz="0" izz="0.001"/>
      </inertial>
      <visual name="Cube.010">
        <origin xyz="0 0 0" rpy="0 0 0"/>
        <geometry>
          <box size="0.01 0.026 0.05"/>
        </geometry>
        <material name="Material.033"/>
      </visual>
    </link>

    <link name="Untitled.081">
      <inertial>
        <origin xyz="0 0 0" rpy="0 0 0"/>
        <mass value="0.001"/>
        <inertia ixx="0.001" ixy="0" ixz="0" iyy="0.001" iyz="0" izz="0.001"/>
      </inertial>
      <visual name="Cube.011">
        <origin xyz="0 0 0" rpy="0 0 0"/>
        <geometry>
          <box size="0.01 0.026 0.05"/>
        </geometry>
        <material name="Material.033"/>
      </visual>
    </link>

    <link name="Untitled.082">
      <inertial>
        <origin xyz="0 0 0" rpy="0 0 0"/>
        <mass value="0.001"/>
        <inertia ixx="0.001" ixy="0" ixz="0" iyy="0.001" iyz="0" izz="0.001"/>
      </inertial>
      <visual name="Cylinder.002">
        <origin xyz="0 0 0" rpy="0 0 0"/>
        <geometry>
          <cylinder radius="0.015" length="0.06"/>
        </geometry>
        <material name="Material.034"/>
      </visual>
    </link>

    <link name="Untitled.083">
      <inertial>
        <origin xyz="0 0 0" rpy="0 0 0"/>
        <mass value="0.001"/>
        <inertia ixx="0.001" ixy="0" ixz="0" iyy="0.001" iyz="0" izz="0.001"/>
      </inertial>
      <visual name="Cylinder.003">
        <origin xyz="0 0 0" rpy="0 0 0"/>
        <geometry>
          <cylinder radius="0.015" length="0.06"/>
        </geometry>
        <material name="Material.034"/>
      </visual>
    </link>

    <link name="Untitled.084">
      <inertial>
        <origin xyz="0 0 0" rpy="0 0 0"/>
        <mass value="0.001"/>
        <inertia ixx="0.001" ixy="0" ixz="0" iyy="0.001" iyz="0" izz="0.001"/>
      </inertial>
      <visual name="Cylinder.013">
        <origin xyz="0 0 0" rpy="0 0 0"/>
        <geometry>
          <cylinder radius="0.015" length="0.06"/>
        </geometry>
        <material name="Material.034"/>
      </visual>
    </link>

    <link name="Untitled.085">
      <inertial>
        <origin xyz="0 0 0" rpy="0 0 0"/>
        <mass value="0.001"/>
        <inertia ixx="0.001" ixy="0" ixz="0" iyy="0.001" iyz="0" izz="0.001"/>
      </inertial>
      <visual name="DC Motor.003">
        <origin xyz="0 0 0" rpy="0 0 0"/>
        <geometry>
          <mesh filename="DC Motor.stl" scale="0.00227 0.00227 0.00133"/>
        </geometry>
        <material name="Material.052"/>
      </visual>
    </link>

    <link name="Untitled.086">
      <inertial>
        <origin xyz="0 0 0" rpy="0 0 0"/>
        <mass value="0.001"/>
        <inertia ixx="0.001" ixy="0" ixz="0" iyy="0.001" iyz="0" izz="0.001"/>
      </inertial>
      <visual name="DC Motor">
        <origin xyz="0 0 0" rpy="0 0 0"/>
        <geometry>
          <mesh filename="DC Motor.stl" scale="0.00227 0.00227 0.00133"/>
        </geometry>
        <material name="Material.052"/>
      </visual>
    </link>

    <link name="Untitled.087">
      <inertial>
        <origin xyz="0 0 0" rpy="0 0 0"/>
        <mass value="0.001"/>
        <inertia ixx="0.001" ixy="0" ixz="0" iyy="0.001" iyz="0" izz="0.001"/>
      </inertial>
      <visual name="DC Motor.001">
        <origin xyz="0 0 0" rpy="0 0 0"/>
        <geometry>
          <mesh filename="DC Motor.stl" scale="0.00227 0.00227 0.00133"/>
        </geometry>
        <material name="Material.052"/>
      </visual>
    </link>

    <link name="Untitled.088">
      <inertial>
        <origin xyz="0 0 0" rpy="0 0 0"/>
        <mass value="0.001"/>
        <inertia ixx="0.001" ixy="0" ixz="0" iyy="0.001" iyz="0" izz="0.001"/>
      </inertial>
      <visual name="DC Motor.002">
        <origin xyz="0 0 0" rpy="0 0 0"/>
        <geometry>
          <mesh filename="DC Motor.stl" scale="0.00227 0.00227 0.00133"/>
        </geometry>
        <material name="Material.052"/>
      </visual>
    </link>

    <link name="Untitled.089">
      <inertial>
        <origin xyz="0 0 0" rpy="0 0 0"/>
        <mass value="0.001"/>
        <inertia ixx="0.001" ixy="0" ixz="0" iyy="0.001" iyz="0" izz="0.001"/>
      </inertial>
      <visual name="DC Motor.007">
        <origin xyz="0 0 0" rpy="0 0 0"/>
        <geometry>
          <mesh filename="DC Motor.stl" scale="0.00227 0.00227 0.00133"/>
        </geometry>
        <material name="Material.052"/>
      </visual>
    </link>

    <link name="Untitled.090">
      <inertial>
        <origin xyz="0 0 0" rpy="0 0 0"/>
        <mass value="0.001"/>
        <inertia ixx="0.001" ixy="0" ixz="0" iyy="0.001" iyz="0" izz="0.001"/>
      </inertial>
      <visual name="DC Motor.004">
        <origin xyz="0 0 0" rpy="0 0 0"/>
        <geometry>
          <mesh filename="DC Motor.stl" scale="0.00227 0.00227 0.00133"/>
        </geometry>
        <material name="Material.052"/>
      </visual>
    </link>

    <link name="Untitled.091">
      <inertial>
        <origin xyz="0 0 0" rpy="0 0 0"/>
        <mass value="0.001"/>
        <inertia ixx="0.001" ixy="0" ixz="0" iyy="0.001" iyz="0" izz="0.001"/>
      </inertial>
      <visual name="DC Motor.005">
        <origin xyz="0 0 0" rpy="0 0 0"/>
        <geometry>
          <mesh filename="DC Motor.stl" scale="0.00227 0.00227 0.00133"/>
        </geometry>
        <material name="Material.052"/>
      </visual>
    </link>

    <link name="Untitled.092">
      <inertial>
        <origin xyz="0 0 0" rpy="0 0 0"/>
        <mass value="0.001"/>
        <inertia ixx="0.001" ixy="0" ixz="0" iyy="0.001" iyz="0" izz="0.001"/>
      </inertial>
      <visual name="DC Motor.006">
        <origin xyz="0 0 0" rpy="0 0 0"/>
        <geometry>
          <mesh filename="DC Motor.stl" scale="0.00227 0.00227 0.00133"/>
        </geometry>
        <material name="Material.052"/>
      </visual>
    </link>

    <link name="Untitled.093">
      <inertial>
        <origin xyz="0 0 0" rpy="0 0 0"/>
        <mass value="0.001"/>
        <inertia ixx="0.001" ixy="0" ixz="0" iyy="0.001" iyz="0" izz="0.001"/>
      </inertial>
      <visual name="NEMA 17.001">
        <origin xyz="0 0 0" rpy="0 0 0"/>
        <geometry>
          <mesh filename="NEMA 17.001.stl" scale="0.00099 0.00099 0.00059"/>
        </geometry>
        <material name="Material.048"/>
      </visual>
    </link>

    <link name="Untitled.094">
      <inertial>
        <origin xyz="0 0 0" rpy="0 0 0"/>
        <mass value="0.001"/>
        <inertia ixx="0.001" ixy="0" ixz="0" iyy="0.001" iyz="0" izz="0.001"/>
      </inertial>
      <visual name="NEMA 17.002">
        <origin xyz="0 0 0" rpy="0 0 0"/>
        <geometry>
          <mesh filename="NEMA 17.002.stl" scale="0.00099 0.00099 0.00059"/>
        </geometry>
        <material name="Material.049"/>
      </visual>
    </link>

    <link name="Untitled.095">
      <inertial>
        <origin xyz="0 0 0" rpy="0 0 0"/>
        <mass value="0.001"/>
        <inertia ixx="0.001" ixy="0" ixz="0" iyy="0.001" iyz="0" izz="0.001"/>
      </inertial>
      <visual name="16gear">
        <origin xyz="0 0 0" rpy="0 0 0"/>
        <geometry>
          <mesh filename="16gear.stl" scale="0.00053 0.00053 0.001"/>
        </geometry>
      </visual>
    </link>

    <link name="Untitled.096">
      <inertial>
        <origin xyz="0 0 0" rpy="0 0 0"/>
        <mass value="0.001"/>
        <inertia ixx="0.001" ixy="0" ixz="0" iyy="0.001" iyz="0" izz="0.001"/>
      </inertial>
      <visual name="rack">
        <origin xyz="-0.15 0 0" rpy="0 0 0"/>
        <geometry>
          <mesh filename="rack.stl" scale="0.00089 0.00136 0.004"/>
        </geometry>
        <material name="Material.050"/>
      </visual>
    </link>

    <link name="Untitled.097">
      <inertial>
        <origin xyz="0 0 0" rpy="0 0 0"/>
        <mass value="0.001"/>
        <inertia ixx="0.001" ixy="0" ixz="0" iyy="0.001" iyz="0" izz="0.001"/>
      </inertial>
      <visual name="bl Link.002.002">
        <origin xyz="0 -0.0024 0.005" rpy="0 3.14159 0"/>
        <geometry>
          <mesh filename="Cylinder.003.stl" scale="0.77778 0.77778 1.0"/>
        </geometry>
        <material name="Material.001"/>
      </visual>
    </link>

    <link name="Untitled.098">
      <inertial>
        <origin xyz="0 0 0" rpy="0 0 0"/>
        <mass value="0.001"/>
        <inertia ixx="0.001" ixy="0" ixz="0" iyy="0.001" iyz="0" izz="0.001"/>
      </inertial>
      <visual name="bl Link.002.005">
        <origin xyz="0 -0.0024 -0.005" rpy="0 0 0"/>
        <geometry>
          <mesh filename="Cylinder.003.stl" scale="0.77778 0.77778 1.0"/>
        </geometry>
        <material name="Material.001"/>
      </visual>
    </link>

    <link name="Untitled.099">
      <inertial>
        <origin xyz="0 0 0" rpy="0 0 0"/>
        <mass value="0.001"/>
        <inertia ixx="0.001" ixy="0" ixz="0" iyy="0.001" iyz="0" izz="0.001"/>
      </inertial>
      <visual name="bl Link.002.004">
        <origin xyz="0 -0.0024 0.005" rpy="0 3.14159 0"/>
        <geometry>
          <mesh filename="Cylinder.003.stl" scale="0.77778 0.77778 1.0"/>
        </geometry>
        <material name="Material.001"/>
      </visual>
    </link>

    <link name="Untitled.100">
      <inertial>
        <origin xyz="0 0 0" rpy="0 0 0"/>
        <mass value="0.001"/>
        <inertia ixx="0.001" ixy="0" ixz="0" iyy="0.001" iyz="0" izz="0.001"/>
      </inertial>
      <visual name="bl Link.002.003">
        <origin xyz="0 -0.0024 0.005" rpy="0 0 0"/>
        <geometry>
          <mesh filename="Cylinder.003.stl" scale="0.77778 0.77778 1.0"/>
        </geometry>
        <material name="Material.001"/>
      </visual>
    </link>

    <link name="Untitled.101">
      <inertial>
        <origin xyz="0 0 0" rpy="0 0 0"/>
        <mass value="0.001"/>
        <inertia ixx="0.001" ixy="0" ixz="0" iyy="0.001" iyz="0" izz="0.001"/>
      </inertial>
      <visual name="motoreducteur">
        <origin xyz="0 0 0" rpy="0 0 0"/>
        <geometry>
          <mesh filename="motoreducteur.stl" scale="0.00114 0.00446 0.00157"/>
        </geometry>
        <material name="Material.023"/>
      </visual>
    </link>

    <link name="Untitled.102">
      <inertial>
        <origin xyz="0 0 0" rpy="0 0 0"/>
        <mass value="0.001"/>
        <inertia ixx="0.001" ixy="0" ixz="0" iyy="0.001" iyz="0" izz="0.001"/>
      </inertial>
      <visual name="Cylinder.014">
        <origin xyz="0.03 0 0" rpy="0 0 0"/>
        <geometry>
          <cylinder radius="0.005" length="0.23"/>
        </geometry>
        <material name="Material.024"/>
      </visual>
    </link>

    <link name="Untitled.104">
      <inertial>
        <origin xyz="0 0 0" rpy="0 0 0"/>
        <mass value="0.001"/>
        <inertia ixx="0.001" ixy="0" ixz="0" iyy="0.001" iyz="0" izz="0.001"/>
      </inertial>
      <visual name="motoreducteur.001">
        <origin xyz="0 0 0" rpy="0 0 0"/>
        <geometry>
          <mesh filename="motoreducteur.stl" scale="0.00114 0.00446 0.00157"/>
        </geometry>
        <material name="Material.023"/>
      </visual>
    </link>

    <link name="Untitled.105">
      <inertial>
        <origin xyz="0 0 0" rpy="0 0 0"/>
        <mass value="0.001"/>
        <inertia ixx="0.001" ixy="0" ixz="0" iyy="0.001" iyz="0" izz="0.001"/>
      </inertial>
      <visual name="Cylinder.015">
        <origin xyz="0.03 0 0" rpy="0 0 0"/>
        <geometry>
          <cylinder radius="0.005" length="0.23"/>
        </geometry>
        <material name="Material.024"/>
      </visual>
    </link>

    <link name="Untitled.106">
      <inertial>
        <origin xyz="0 0 0" rpy="0 0 0"/>
        <mass value="0.001"/>
        <inertia ixx="0.001" ixy="0" ixz="0" iyy="0.001" iyz="0" izz="0.001"/>
      </inertial>
      <visual name="L bracket.015">
        <origin xyz="-0.025 0 0" rpy="0 0 0"/>
        <geometry>
          <mesh filename="L bracket.stl" scale="0.00116 0.0016 0.00167"/>
        </geometry>
        <material name="Material.051"/>
      </visual>
    </link>

    <link name="Untitled.107">
      <inertial>
        <origin xyz="0 0 0" rpy="0 0 0"/>
        <mass value="0.001"/>
        <inertia ixx="0.001" ixy="0" ixz="0" iyy="0.001" iyz="0" izz="0.001"/>
      </inertial>
      <visual name="L bracket.012">
        <origin xyz="0 0 -0.03" rpy="0 0 0"/>
        <geometry>
          <mesh filename="L bracket.stl" scale="0.00116 0.0016 0.00167"/>
        </geometry>
        <material name="Material.051"/>
      </visual>
    </link>

    <link name="Untitled.108">
      <inertial>
        <origin xyz="0 0 0" rpy="0 0 0"/>
        <mass value="0.001"/>
        <inertia ixx="0.001" ixy="0" ixz="0" iyy="0.001" iyz="0" izz="0.001"/>
      </inertial>
      <visual name="L bracket.013">
        <origin xyz="0.02 0 0" rpy="0 0 0"/>
        <geometry>
          <mesh filename="L bracket.stl" scale="0.00116 0.0016 0.00167"/>
        </geometry>
        <material name="Material.051"/>
      </visual>
    </link>

    <link name="Untitled.109">
      <inertial>
        <origin xyz="0 0 0" rpy="0 0 0"/>
        <mass value="0.001"/>
        <inertia ixx="0.001" ixy="0" ixz="0" iyy="0.001" iyz="0" izz="0.001"/>
      </inertial>
      <visual name="L bracket.014">
        <origin xyz="0 0 0.02367" rpy="0 0 0"/>
        <geometry>
          <mesh filename="L bracket.stl" scale="0.00116 0.0016 0.00167"/>
        </geometry>
        <material name="Material.051"/>
      </visual>
    </link>

    <link name="Untitled.110">
      <inertial>
        <origin xyz="0 0 0" rpy="0 0 0"/>
        <mass value="0.2"/>
        <inertia ixx="2e-05" ixy="0" ixz="0" iyy="2e-05" iyz="0" izz="2e-05"/>
      </inertial>
      <visual name="Cube.016">
        <origin xyz="0 0 0" rpy="0 0 0"/>
        <geometry>
          <box size="0.23 0.1 0.06"/>
        </geometry>
        <material name="Material.021"/>
      </visual>
      <visual name="vertical rod">
        <origin xyz="0.16779 0.00101 -1.52241" rpy="1.5708 0 0"/>
        <geometry>
          <mesh filename="vertical rod.004.stl" scale="1.0 1.0 1.0"/>
        </geometry>
        <material name="Material.022"/>
      </visual>
      <visual name="vertical rod.001">
        <origin xyz="-0.16721 0.00101 -1.52241" rpy="1.5708 0 0"/>
        <geometry>
          <mesh filename="vertical rod.004.stl" scale="1.0 1.0 1.0"/>
        </geometry>
        <material name="Material.022"/>
      </visual>
      <collision name="Cube.016">
        <origin xyz="0 0 0" rpy="0 0 0"/>
        <geometry>
          <box size="0.23 0.1 0.06"/>
        </geometry>
      </collision>
      <collision name="vertical rod.000.001">
        <origin xyz="0.16779 0.00101 -1.52241" rpy="1.5708 0 0"/>
        <geometry>
          <mesh filename="vertical rod.008.stl" scale="1.0 1.0 1.0"/>
        </geometry>
      </collision>
      <collision name="vertical rod.001.000.001">
        <origin xyz="-0.16721 0.00101 -1.52241" rpy="1.5708 0 0"/>
        <geometry>
          <mesh filename="vertical rod.007.stl" scale="1.0 1.0 1.0"/>
        </geometry>
      </collision>
    </link>

    <link name="Untitled.111">
      <inertial>
        <origin xyz="0 0 0" rpy="0 0 0"/>
        <mass value="0.2"/>
        <inertia ixx="2e-05" ixy="0" ixz="0" iyy="2e-05" iyz="0" izz="2e-05"/>
      </inertial>
      <visual name="Cube.017">
        <origin xyz="0 0 0" rpy="0 0 0"/>
        <geometry>
          <box size="0.23 0.1 0.06"/>
        </geometry>
        <material name="Material.021"/>
      </visual>
      <visual name="vertical rod.002">
        <origin xyz="-0.16721 0.00101 -1.52241" rpy="1.5708 0 0"/>
        <geometry>
          <mesh filename="vertical rod.004.stl" scale="1.0 1.0 1.0"/>
        </geometry>
        <material name="Material.022"/>
      </visual>
      <visual name="vertical rod.003">
        <origin xyz="0.16779 0.00101 -1.52241" rpy="1.5708 0 0"/>
        <geometry>
          <mesh filename="vertical rod.004.stl" scale="1.0 1.0 1.0"/>
        </geometry>
        <material name="Material.022"/>
      </visual>
      <collision name="Cube.017">
        <origin xyz="0 0 0.01" rpy="0 0 0"/>
        <geometry>
          <box size="0.23 0.1 0.05"/>
        </geometry>
      </collision>
      <collision name="vertical rod.002.000">
        <origin xyz="-0.16721 0.00101 -0.75241" rpy="1.5708 0 0"/>
        <geometry>
          <mesh filename="vertical rod.006.stl" scale="1.0 1.0 1.0"/>
        </geometry>
      </collision>
      <collision name="vertical rod.003.000">
        <origin xyz="0.16779 0.00101 -1.52241" rpy="1.5708 0 0"/>
        <geometry>
          <mesh filename="vertical rod.005.stl" scale="1.0 1.0 1.0"/>
        </geometry>
      </collision>
    </link>

    <joint name="Untitled" type="fixed">
      <origin xyz="-0.11 0.06 0" rpy="1.5708 0 0"/>
      <parent link="Untitled.004"/>
      <child link="Untitled"/>
    </joint>

    <joint name="Untitled.001" type="fixed">
      <origin xyz="-0.11 -0.06 0" rpy="-1.5708 0 0"/>
      <parent link="Untitled.004"/>
      <child link="Untitled.001"/>
    </joint>

    <joint name="Untitled.002" type="fixed">
      <origin xyz="0.11 0.06 0" rpy="1.5708 0 0"/>
      <parent link="Untitled.004"/>
      <child link="Untitled.002"/>
    </joint>

    <joint name="Untitled.003" type="fixed">
      <origin xyz="0.11 -0.06 0" rpy="-1.5708 0 0"/>
      <parent link="Untitled.004"/>
      <child link="Untitled.003"/>
    </joint>

    <joint name="Untitled.004" type="fixed">
      <origin xyz="0.00279 0.00101 -1.57241" rpy="0 0 0"/>
      <parent link="Untitled.110"/>
      <child link="Untitled.004"/>
    </joint>

    <joint name="Untitled.005" type="continuous">
      <origin xyz="0.04 0 -0.07" rpy="3.14159 0 0"/>
      <parent link="Untitled.002"/>
      <child link="Untitled.005"/>
      <axis xyz="0 0 1.0"/>
      <limit effort="0.1" velocity="1.5"/>
    </joint>

    <joint name="Untitled.006" type="continuous">
      <origin xyz="-0.04 0 -0.07" rpy="3.14159 0 0"/>
      <parent link="Untitled"/>
      <child link="Untitled.006"/>
      <axis xyz="0 0 1.0"/>
      <limit effort="0.1" velocity="1.5"/>
    </joint>

    <joint name="Untitled.007" type="continuous">
      <origin xyz="-0.04 0 -0.07" rpy="-3.14159 0 0"/>
      <parent link="Untitled.001"/>
      <child link="Untitled.007"/>
      <axis xyz="0 0 1.0"/>
      <limit effort="0.1" velocity="1.5"/>
    </joint>

    <joint name="Untitled.008" type="continuous">
      <origin xyz="0.04 0 -0.07" rpy="-3.14159 0 0"/>
      <parent link="Untitled.003"/>
      <child link="Untitled.008"/>
      <axis xyz="0 0 1.0"/>
      <limit effort="0.1" velocity="1.5"/>
    </joint>

    <joint name="Untitled.009" type="fixed">
      <origin xyz="0.00279 -0.00399 -1.56" rpy="0 0 0"/>
      <parent link="Untitled.111"/>
      <child link="Untitled.009"/>
    </joint>

    <joint name="Untitled.010" type="fixed">
      <origin xyz="-0.11 -0.06 0" rpy="-1.5708 0 0"/>
      <parent link="Untitled.009"/>
      <child link="Untitled.010"/>
    </joint>

    <joint name="Untitled.011" type="continuous">
      <origin xyz="-0.04 0 -0.07" rpy="-3.14159 0 0"/>
      <parent link="Untitled.010"/>
      <child link="Untitled.011"/>
      <axis xyz="0 0 1.0"/>
      <limit effort="0.1" velocity="1.5"/>
    </joint>

    <joint name="Untitled.012" type="fixed">
      <origin xyz="-0.11 0.06 0" rpy="1.5708 0 0"/>
      <parent link="Untitled.009"/>
      <child link="Untitled.012"/>
    </joint>

    <joint name="Untitled.013" type="fixed">
      <origin xyz="0 0 0.055" rpy="0 0 0"/>
      <parent link="Untitled.053"/>
      <child link="Untitled.013"/>
    </joint>

    <joint name="Untitled.014" type="fixed">
      <origin xyz="0.11 0.06 0" rpy="1.5708 0 0"/>
      <parent link="Untitled.009"/>
      <child link="Untitled.014"/>
    </joint>

    <joint name="Untitled.015" type="continuous">
      <origin xyz="0.04 0 -0.07" rpy="3.14159 0 0"/>
      <parent link="Untitled.014"/>
      <child link="Untitled.015"/>
      <axis xyz="0 0 1.0"/>
      <limit effort="0.1" velocity="1.5"/>
    </joint>

    <joint name="Untitled.016" type="fixed">
      <origin xyz="0.11 -0.06 0" rpy="-1.5708 0 0"/>
      <parent link="Untitled.009"/>
      <child link="Untitled.016"/>
    </joint>

    <joint name="Untitled.017" type="continuous">
      <origin xyz="0.04 0 -0.07" rpy="-3.14159 0 0"/>
      <parent link="Untitled.016"/>
      <child link="Untitled.017"/>
      <axis xyz="0 0 1.0"/>
      <limit effort="0.1" velocity="1.5"/>
    </joint>

    <joint name="Untitled.018" type="fixed">
      <origin xyz="0 0.04 -0.04" rpy="0 0 0"/>
      <parent link="Untitled.047"/>
      <child link="Untitled.018"/>
    </joint>

    <joint name="Untitled.019" type="prismatic">
      <origin xyz="0 0 -0.01039" rpy="0 0 0"/>
      <parent link="Untitled.018"/>
      <child link="Untitled.019"/>
      <axis xyz="0 0 1.0"/>
      <limit lower="-1.6" upper="1.6" effort="0.01" velocity="0.1"/>
    </joint>

    <joint name="Untitled.020" type="fixed">
      <origin xyz="0 -0.00117 -0.05884" rpy="0 0 0"/>
      <parent link="Untitled.019"/>
      <child link="Untitled.020"/>
    </joint>

    <joint name="Untitled.021" type="fixed">
      <origin xyz="0.06656 -0.00819 -0.00718" rpy="0 0 0"/>
      <parent link="Untitled.024"/>
      <child link="Untitled.021"/>
    </joint>

    <joint name="Untitled.022" type="fixed">
      <origin xyz="-0.06 -0.05371 0" rpy="-1.5708 0 0"/>
      <parent link="Untitled.026"/>
      <child link="Untitled.022"/>
    </joint>

    <joint name="Untitled.023" type="fixed">
      <origin xyz="0.06 -0.05371 0" rpy="-1.5708 0 0"/>
      <parent link="Untitled.026"/>
      <child link="Untitled.023"/>
    </joint>

    <joint name="Untitled.024" type="fixed">
      <origin xyz="-0.00656 0.00819 -0.03142" rpy="0 0 0"/>
      <parent link="Untitled.022"/>
      <child link="Untitled.024"/>
    </joint>

    <joint name="Untitled.025" type="fixed">
      <origin xyz="0.00237 -0.00899 -0.03609" rpy="0 0 0"/>
      <parent link="Untitled.023"/>
      <child link="Untitled.025"/>
    </joint>

    <joint name="Untitled.026" type="prismatic">
      <origin xyz="0.025 0 0.04555" rpy="1.5708 0 -1.5708"/>
      <parent link="Untitled.052"/>
      <child link="Untitled.026"/>
      <axis xyz="0 0 1.0"/>
      <limit lower="-1.2931" upper="1.29" effort="0.1" velocity="1.0"/>
    </joint>

    <joint name="Untitled.027" type="fixed">
      <origin xyz="0.00656 -0.00819 -0.15126" rpy="0 0 0"/>
      <parent link="Untitled.024"/>
      <child link="Untitled.027"/>
    </joint>

    <joint name="Untitled.028" type="prismatic">
      <origin xyz="0 0 -0.02468" rpy="0 0 0"/>
      <parent link="Untitled.027"/>
      <child link="Untitled.028"/>
      <axis xyz="0 0 1.0"/>
      <limit lower="-1.2931" upper="1.29" effort="0.1" velocity="1.0"/>
    </joint>

    <joint name="Untitled.029" type="fixed">
      <origin xyz="0.01 0 -0.12848" rpy="0 0 0"/>
      <parent link="Untitled.028"/>
      <child link="Untitled.029"/>
    </joint>

    <joint name="Untitled.030" type="fixed">
      <origin xyz="0.05 0 0.14075" rpy="0 0 0"/>
      <parent link="Untitled.029"/>
      <child link="Untitled.030"/>
    </joint>

    <joint name="Untitled.031" type="prismatic">
      <origin xyz="0 0 -0.02247" rpy="0 0 0"/>
      <parent link="Untitled.030"/>
      <child link="Untitled.031"/>
      <axis xyz="0 0 1.0"/>
      <limit lower="-1.2931" upper="1.29" effort="0.1" velocity="1.0"/>
    </joint>

    <joint name="Untitled.032" type="fixed">
      <origin xyz="0.00738 0.0014 -0.1528" rpy="0 0 0"/>
      <parent link="Untitled.031"/>
      <child link="Untitled.032"/>
    </joint>

    <joint name="Untitled.033" type="fixed">
      <origin xyz="0.05262 -0.0014 0.13993" rpy="0 0 0"/>
      <parent link="Untitled.032"/>
      <child link="Untitled.033"/>
    </joint>

    <joint name="Untitled.034" type="prismatic">
      <origin xyz="0 0 -0.01" rpy="0 0 0"/>
      <parent link="Untitled.033"/>
      <child link="Untitled.034"/>
      <axis xyz="0 0 1.0"/>
      <limit lower="-1.2931" upper="1.29" effort="0.1" velocity="1.0"/>
    </joint>

    <joint name="Untitled.035" type="fixed">
      <origin xyz="0.00989 -0.00047 -0.15397" rpy="0 0 0"/>
      <parent link="Untitled.034"/>
      <child link="Untitled.035"/>
    </joint>

    <joint name="Untitled.036" type="continuous">
      <origin xyz="-0.00332 0.00214 -0.04292" rpy="0 0 0"/>
      <parent link="Untitled.035"/>
      <child link="Untitled.036"/>
      <axis xyz="0 0 1.0"/>
      <limit effort="0.1" velocity="1.0"/>
    </joint>

    <joint name="Untitled.037" type="fixed">
      <origin xyz="0 -0.0625 -0.09126" rpy="1.5708 0 0"/>
      <parent link="Untitled.036"/>
      <child link="Untitled.037"/>
    </joint>

    <joint name="Untitled.038" type="prismatic">
      <origin xyz="0 0.0825 -0.09126" rpy="1.5708 0 0"/>
      <parent link="Untitled.036"/>
      <child link="Untitled.038"/>
      <axis xyz="0 0 1.0"/>
      <limit lower="-1.6" upper="1.6" effort="0.1" velocity="0.05"/>
    </joint>

    <joint name="Untitled.039" type="fixed">
      <origin xyz="-0.175 0.03 0.0476" rpy="1.5708 0 1.5708"/>
      <parent link="Untitled.009"/>
      <child link="Untitled.039"/>
    </joint>

    <joint name="Untitled.040" type="fixed">
      <origin xyz="-0.195 -0.02 0.0476" rpy="1.5708 0 -3.14159"/>
      <parent link="Untitled.009"/>
      <child link="Untitled.040"/>
    </joint>

    <joint name="Untitled.041" type="fixed">
      <origin xyz="0.04032 -0.00214 -0.00337" rpy="0 0 0"/>
      <parent link="Untitled.036"/>
      <child link="Untitled.041"/>
    </joint>

    <joint name="Untitled.042" type="revolute">
      <origin xyz="0.03 0.01 0.00027" rpy="1.5708 0 0"/>
      <parent link="Untitled.041"/>
      <child link="Untitled.042"/>
      <axis xyz="0 0 1.0"/>
      <limit lower="-1.57" upper="0" effort="0.01" velocity="0.1"/>
    </joint>

    <joint name="Untitled.043" type="fixed">
      <origin xyz="0.002 0 0.02" rpy="-1.5708 0 -1.5708"/>
      <parent link="Untitled.042"/>
      <child link="Untitled.043"/>
    </joint>

    <joint name="Untitled.044" type="fixed">
      <origin xyz="0.002 0 0" rpy="-1.5708 0 -1.5708"/>
      <parent link="Untitled.042"/>
      <child link="Untitled.044"/>
    </joint>

    <joint name="Untitled.045" type="fixed">
      <origin xyz="0.19 0.03 0.0476" rpy="1.5708 0 0"/>
      <parent link="Untitled.009"/>
      <child link="Untitled.045"/>
    </joint>

    <joint name="Untitled.046" type="fixed">
      <origin xyz="0.19 -0.02 0.0476" rpy="1.5708 0 -1.5708"/>
      <parent link="Untitled.009"/>
      <child link="Untitled.046"/>
    </joint>

    <joint name="Untitled.047" type="fixed">
      <origin xyz="0 0.1 0" rpy="0 0 0"/>
      <parent link="Untitled.036"/>
      <child link="Untitled.047"/>
    </joint>

    <joint name="Untitled.048" type="fixed">
      <origin xyz="0.10668 -8e-05 0.01932" rpy="0 0 0"/>
      <parent link="Untitled.110"/>
      <child link="Untitled.048"/>
    </joint>

    <joint name="Untitled.049" type="fixed">
      <origin xyz="0.00415 -0.00265 0.05003" rpy="0 0 0"/>
      <parent link="Untitled.048"/>
      <child link="Untitled.049"/>
    </joint>

    <joint name="Untitled.050" type="fixed">
      <origin xyz="0.15 -0.02 0.0476" rpy="1.5708 0 -3.14159"/>
      <parent link="Untitled.009"/>
      <child link="Untitled.050"/>
    </joint>

    <joint name="Untitled.051" type="fixed">
      <origin xyz="0.14 0.03 0.0476" rpy="1.5708 0 1.5708"/>
      <parent link="Untitled.009"/>
      <child link="Untitled.051"/>
    </joint>

    <joint name="Untitled.053" type="fixed">
      <origin xyz="-0.02833 0 0.05969" rpy="0 -1.5708 0"/>
      <parent link="Untitled.049"/>
      <child link="Untitled.053"/>
    </joint>

    <joint name="Untitled.054" type="continuous">
      <origin xyz="-0.04 0 -0.07" rpy="3.14159 0 0"/>
      <parent link="Untitled.012"/>
      <child link="Untitled.054"/>
      <axis xyz="0 0 1.0"/>
      <limit effort="0.1" velocity="1.5"/>
    </joint>

    <joint name="Untitled.055" type="fixed">
      <origin xyz="0 0 0.08" rpy="0 3.14159 0"/>
      <parent link="Untitled.013"/>
      <child link="Untitled.055"/>
    </joint>

    <joint name="Untitled.056" type="fixed">
      <origin xyz="0.05 0 -0.04" rpy="0 -1.5708 0"/>
      <parent link="Untitled.055"/>
      <child link="Untitled.056"/>
    </joint>

    <joint name="Untitled.057" type="fixed">
      <origin xyz="-0.07251 -0.00274 0.02904" rpy="0 1.5708 0"/>
      <parent link="Untitled.110"/>
      <child link="Untitled.057"/>
    </joint>

    <joint name="Untitled.058" type="fixed">
      <origin xyz="-0.00145 1.25375 0.0247" rpy="3.14159 0 1.5708"/>
      <parent link="Untitled.013"/>
      <child link="Untitled.058"/>
    </joint>

    <joint name="Untitled.059" type="fixed">
      <origin xyz="0.05809 0.00726 -0.01033" rpy="0 1.5708 0"/>
      <parent link="Untitled.111"/>
      <child link="Untitled.059"/>
    </joint>

    <joint name="Untitled.060" type="fixed">
      <origin xyz="-0.04812 0 0.04" rpy="0 -1.5708 0"/>
      <parent link="Untitled.059"/>
      <child link="Untitled.060"/>
    </joint>

    <joint name="Untitled.061" type="fixed">
      <origin xyz="-0.04 0 0.05125" rpy="0 1.5708 0"/>
      <parent link="Untitled.060"/>
      <child link="Untitled.061"/>
    </joint>

    <joint name="Untitled.062" type="fixed">
      <origin xyz="0 0 0.0194" rpy="0 -3.14159 0"/>
      <parent link="Untitled.061"/>
      <child link="Untitled.062"/>
    </joint>

    <joint name="Untitled.063" type="fixed">
      <origin xyz="0 -0.00625 0.13" rpy="0 3.14159 0"/>
      <parent link="Untitled.062"/>
      <child link="Untitled.063"/>
    </joint>

    <joint name="Untitled.064" type="fixed">
      <origin xyz="0.05 0 -0.04" rpy="0 -1.5708 0"/>
      <parent link="Untitled.063"/>
      <child link="Untitled.064"/>
    </joint>

    <joint name="Untitled.065" type="fixed">
      <origin xyz="-0.05251 0.00101 -0.01107" rpy="0 1.5708 0"/>
      <parent link="Untitled.111"/>
      <child link="Untitled.065"/>
    </joint>

    <joint name="Untitled.073" type="fixed">
      <origin xyz="-0.145 -0.02 0.0476" rpy="1.5708 0 -1.5708"/>
      <parent link="Untitled.009"/>
      <child link="Untitled.073"/>
    </joint>

    <joint name="Untitled.074" type="fixed">
      <origin xyz="-0.15 0.03 0.0476" rpy="1.5708 0 0"/>
      <parent link="Untitled.009"/>
      <child link="Untitled.074"/>
    </joint>

    <joint name="Untitled.075" type="fixed">
      <origin xyz="-0.195 0.025 0.06" rpy="1.5708 0 1.5708"/>
      <parent link="Untitled.004"/>
      <child link="Untitled.075"/>
    </joint>

    <joint name="Untitled.076" type="fixed">
      <origin xyz="-0.195 -0.025 0.06" rpy="1.5708 0 -3.14159"/>
      <parent link="Untitled.004"/>
      <child link="Untitled.076"/>
    </joint>

    <joint name="Untitled.077" type="fixed">
      <origin xyz="-0.155 -0.025 0.06" rpy="1.5708 0 -1.5708"/>
      <parent link="Untitled.004"/>
      <child link="Untitled.077"/>
    </joint>

    <joint name="Untitled.078" type="fixed">
      <origin xyz="-0.15 0.025 0.06" rpy="1.5708 0 0"/>
      <parent link="Untitled.004"/>
      <child link="Untitled.078"/>
    </joint>

    <joint name="Untitled.079" type="fixed">
      <origin xyz="-0.00145 1.25375 0.0347" rpy="3.14159 0 1.5708"/>
      <parent link="Untitled.013"/>
      <child link="Untitled.079"/>
    </joint>

    <joint name="Untitled.080" type="fixed">
      <origin xyz="0.025 0 0.03113" rpy="0 0 0"/>
      <parent link="Untitled.029"/>
      <child link="Untitled.080"/>
    </joint>

    <joint name="Untitled.081" type="fixed">
      <origin xyz="0.02762 -0.0014 0.03161" rpy="0 0 0"/>
      <parent link="Untitled.032"/>
      <child link="Untitled.081"/>
    </joint>

    <joint name="Untitled.082" type="fixed">
      <origin xyz="0 -0.035 0.11744" rpy="0 0 0"/>
      <parent link="Untitled.027"/>
      <child link="Untitled.082"/>
    </joint>

    <joint name="Untitled.083" type="fixed">
      <origin xyz="0 -0.035 0.12198" rpy="0 0 0"/>
      <parent link="Untitled.030"/>
      <child link="Untitled.083"/>
    </joint>

    <joint name="Untitled.084" type="fixed">
      <origin xyz="0 -0.035 0.11828" rpy="0 0 0"/>
      <parent link="Untitled.033"/>
      <child link="Untitled.084"/>
    </joint>

    <joint name="Untitled.085" type="fixed">
      <origin xyz="0.05 0 -0.04" rpy="0 0 3.14159"/>
      <parent link="Untitled.003"/>
      <child link="Untitled.085"/>
    </joint>

    <joint name="Untitled.086" type="fixed">
      <origin xyz="0.03 0 -0.04" rpy="0 0 0"/>
      <parent link="Untitled.002"/>
      <child link="Untitled.086"/>
    </joint>

    <joint name="Untitled.087" type="fixed">
      <origin xyz="-0.05 0 -0.04" rpy="0 0 0"/>
      <parent link="Untitled"/>
      <child link="Untitled.087"/>
    </joint>

    <joint name="Untitled.088" type="fixed">
      <origin xyz="-0.03 0 -0.04" rpy="0 0 3.14159"/>
      <parent link="Untitled.001"/>
      <child link="Untitled.088"/>
    </joint>

    <joint name="Untitled.089" type="fixed">
      <origin xyz="0.04 0.0124 -0.035" rpy="0 0 3.14159"/>
      <parent link="Untitled.016"/>
      <child link="Untitled.089"/>
    </joint>

    <joint name="Untitled.090" type="fixed">
      <origin xyz="0.02 -0.0124 -0.045" rpy="0 0 0"/>
      <parent link="Untitled.014"/>
      <child link="Untitled.090"/>
    </joint>

    <joint name="Untitled.091" type="fixed">
      <origin xyz="-0.05 -0.0124 -0.045" rpy="0 0 0"/>
      <parent link="Untitled.012"/>
      <child link="Untitled.091"/>
    </joint>

    <joint name="Untitled.092" type="fixed">
      <origin xyz="-0.03 0.0124 -0.035" rpy="0 0 3.14159"/>
      <parent link="Untitled.010"/>
      <child link="Untitled.092"/>
    </joint>

    <joint name="Untitled.093" type="fixed">
      <origin xyz="0.01 -0.01 0.00115" rpy="0 0 0"/>
      <parent link="Untitled.036"/>
      <child link="Untitled.093"/>
    </joint>

    <joint name="Untitled.094" type="fixed">
      <origin xyz="-0.03 -0.04997 -0.03088" rpy="0 1.5708 0"/>
      <parent link="Untitled.036"/>
      <child link="Untitled.094"/>
    </joint>

    <joint name="Untitled.095" type="fixed">
      <origin xyz="-0.02003 -0.0025 0.03571" rpy="0 0 0"/>
      <parent link="Untitled.094"/>
      <child link="Untitled.095"/>
    </joint>

    <joint name="Untitled.096" type="fixed">
      <origin xyz="0 0.05168 0.0085" rpy="0 1.5708 0"/>
      <parent link="Untitled.038"/>
      <child link="Untitled.096"/>
    </joint>

    <joint name="Untitled.097" type="continuous">
      <origin xyz="-0.00259 0.125 0.0024" rpy="1.5708 0 -3.14159"/>
      <parent link="Untitled.004"/>
      <child link="Untitled.097"/>
      <axis xyz="0 0 1.0"/>
      <limit effort="0.01" velocity="0.1"/>
    </joint>

    <joint name="Untitled.098" type="continuous">
      <origin xyz="-0.00259 -0.135 0.0024" rpy="1.5708 0 0"/>
      <parent link="Untitled.004"/>
      <child link="Untitled.098"/>
      <axis xyz="0 0 1.0"/>
      <limit effort="0.01" velocity="0.1"/>
    </joint>

    <joint name="Untitled.099" type="continuous">
      <origin xyz="-0.0026 0.13 0" rpy="1.5708 0 -3.14159"/>
      <parent link="Untitled.009"/>
      <child link="Untitled.099"/>
      <axis xyz="0 0 1.0"/>
      <limit effort="0.01" velocity="0.1"/>
    </joint>

    <joint name="Untitled.100" type="continuous">
      <origin xyz="-0.0026 -0.13 0" rpy="1.5708 0 0"/>
      <parent link="Untitled.009"/>
      <child link="Untitled.100"/>
      <axis xyz="0 0 1.0"/>
      <limit effort="0.01" velocity="0.1"/>
    </joint>

    <joint name="Untitled.101" type="fixed">
      <origin xyz="-0.02 0.03 -0.05" rpy="1.5708 0 0"/>
      <parent link="Untitled.004"/>
      <child link="Untitled.101"/>
    </joint>

    <joint name="Untitled.102" type="fixed">
      <origin xyz="-0.01 0.05 0.03" rpy="0 0 0"/>
      <parent link="Untitled.101"/>
      <child link="Untitled.102"/>
    </joint>

    <joint name="Untitled.104" type="fixed">
      <origin xyz="-0.02 0.035 -0.0524" rpy="1.5708 0 0"/>
      <parent link="Untitled.009"/>
      <child link="Untitled.104"/>
    </joint>

    <joint name="Untitled.105" type="fixed">
      <origin xyz="-0.01 0.05 0.03" rpy="0 0 0"/>
      <parent link="Untitled.104"/>
      <child link="Untitled.105"/>
    </joint>

    <joint name="Untitled.106" type="fixed">
      <origin xyz="0.115 -0.025 0.06" rpy="1.5708 0 -3.14159"/>
      <parent link="Untitled.004"/>
      <child link="Untitled.106"/>
    </joint>

    <joint name="Untitled.107" type="fixed">
      <origin xyz="0.165 -0.025 0.06" rpy="1.5708 0 -1.5708"/>
      <parent link="Untitled.004"/>
      <child link="Untitled.107"/>
    </joint>

    <joint name="Untitled.108" type="fixed">
      <origin xyz="0.17 0.025 0.06" rpy="1.5708 0 0"/>
      <parent link="Untitled.004"/>
      <child link="Untitled.108"/>
    </joint>

    <joint name="Untitled.109" type="fixed">
      <origin xyz="0.11633 0.02712 0.06201" rpy="1.5708 0 1.5708"/>
      <parent link="Untitled.004"/>
      <child link="Untitled.109"/>
    </joint>

    <joint name="Untitled.110" type="fixed">
      <origin xyz="-1.25101 0.00279 -0.00759" rpy="0 0 -1.5708"/>
      <parent link="Untitled.052"/>
      <child link="Untitled.110"/>
    </joint>

    <joint name="Untitled.111" type="fixed">
      <origin xyz="1.24899 0.00279 0.03241" rpy="0 0 -1.5708"/>
      <parent link="Untitled.052"/>
      <child link="Untitled.111"/>
    </joint>

    <material name="Material.001">
      <color rgba="0 0 0 1.0"/>
    </material>

    <material name="Material.002">
      <color rgba="0 0 0 1.0"/>
    </material>

    <material name="Material.003">
      <color rgba="0 0 0 1.0"/>
    </material>

    <material name="Material.004">
      <color rgba="0 0 0 1.0"/>
    </material>

    <material name="Material.005">
      <color rgba="0.64 0.64 0.64 1.0"/>
    </material>

    <material name="Material.006">
      <color rgba="0.08 0.08 0.08 1.0"/>
    </material>

    <material name="Material.007">
      <color rgba="0.64 0.64 0.64 1.0"/>
    </material>

    <material name="Material.008">
      <color rgba="0 0 0 1.0"/>
    </material>

    <material name="Material.009">
      <color rgba="0 0 0 1.0"/>
    </material>

    <material name="Material.010">
      <color rgba="0 0 0 1.0"/>
    </material>

    <material name="Material.011">
      <color rgba="0.64 0.64 0.64 1.0"/>
    </material>

    <material name="Material.012">
      <color rgba="0.16 0.16 0.16 1.0"/>
    </material>

    <material name="Material.013">
      <color rgba="0.16 0.16 0.16 1.0"/>
    </material>

    <material name="Material.014">
      <color rgba="0.64 0.64 0.64 1.0"/>
    </material>

    <material name="Material.015">
      <color rgba="0.16 0.16 0.16 1.0"/>
    </material>

    <material name="Material.016">
      <color rgba="0.16 0.16 0.16 1.0"/>
    </material>

    <material name="Material.017">
      <color rgba="0.64 0.64 0.64 1.0"/>
    </material>

    <material name="Material.018">
      <color rgba="0.16 0.16 0.16 1.0"/>
    </material>

    <material name="Material.019">
      <color rgba="0.16 0.16 0.16 1.0"/>
    </material>

    <material name="Material.020">
      <color rgba="0.64 0.64 0.64 1.0"/>
    </material>

    <material name="Material.021">
      <color rgba="0.64 0.64 0.64 1.0"/>
    </material>

    <material name="Material.022">
      <color rgba="0.64 0.64 0.64 1.0"/>
    </material>

    <material name="Material.023">
      <color rgba="0.64 0.64 0.64 1.0"/>
    </material>

    <material name="Material.024">
      <color rgba="0.16 0.16 0.16 1.0"/>
    </material>

    <material name="Material.025">
      <color rgba="0.64 0.64 0.64 1.0"/>
    </material>

    <material name="Material.026">
      <color rgba="0.09 0.09 0.09 1.0"/>
    </material>

    <material name="Material.027">
      <color rgba="0.76 0.76 0.76 1.0"/>
    </material>

    <material name="Material.030">
      <color rgba="0.64 0.64 0.64 1.0"/>
    </material>

    <material name="Material.032">
      <color rgba="0 0 0 1.0"/>
    </material>

    <material name="Material.033">
      <color rgba="0.16 0.16 0.16 1.0"/>
    </material>

    <material name="Material.034">
      <color rgba="0.48 0.48 0.48 1.0"/>
    </material>

    <material name="Material.035">
      <color rgba="0.64 0.64 0.64 1.0"/>
    </material>

    <material name="Material.036">
      <color rgba="0.4 0.4 0.4 1.0"/>
    </material>

    <material name="Material.037">
      <color rgba="0 0 0 1.0"/>
    </material>

    <material name="Material.038">
      <color rgba="0.72 0.72 0.72 1.0"/>
    </material>

    <material name="Material.039">
      <color rgba="0.64 0.64 0.64 1.0"/>
    </material>

    <material name="Material.040">
      <color rgba="0.56 0.56 0.56 1.0"/>
    </material>

    <material name="Material.041">
      <color rgba="0.64 0.64 0.64 1.0"/>
    </material>

    <material name="Material.042">
      <color rgba="0.64 0.64 0.64 1.0"/>
    </material>

    <material name="Material.048">
      <color rgba="0.64 0.64 0.64 1.0"/>
    </material>

    <material name="Material.049">
      <color rgba="0.64 0.64 0.64 1.0"/>
    </material>

    <material name="Material.050">
      <color rgba="0.16 0.16 0.16 1.0"/>
    </material>

    <material name="Material.051">
      <color rgba="0.16 0.16 0.16 1.0"/>
    </material>

    <material name="Material.052">
      <color rgba="0.64 0.64 0.64 1.0"/>
    </material>

  </robot>
